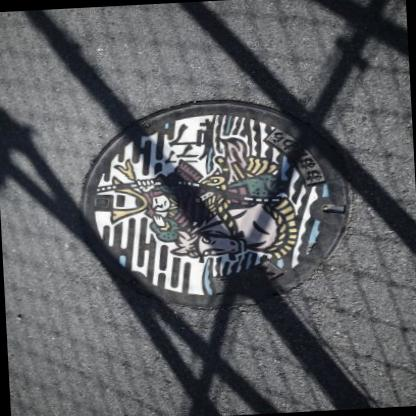manholes: (56, 58, 398, 351)
